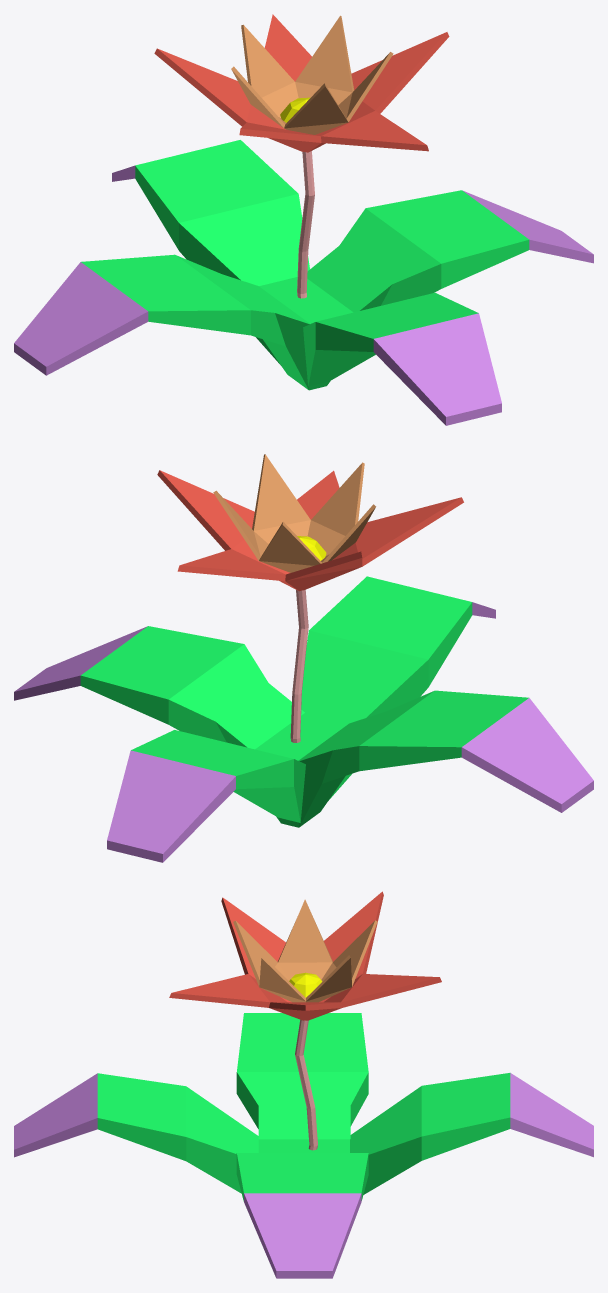
File: Torchflower.fbx
The picture shows the model from 3 angles, top to bottom: view 1: azimuth 30°, elevation 25°; view 2: azimuth 150°, elevation 25°; view 3: azimuth 270°, elevation 25°; orthographic projection. The views are drawn at different scales.
Parts seen in each view (by area): view 1: Daun, kelopak, bunga, serbuk.001; view 2: Daun, kelopak, bunga, serbuk.001; view 3: Daun, kelopak, bunga, serbuk.001, serbuk.
Boxes of the visible parts, box(x1,y1,x2,y2) form: Daun: box(14, 140, 593, 425); kelopak: box(154, 14, 449, 152); bunga: box(231, 15, 393, 134); serbuk.001: box(297, 151, 314, 298); Daun: box(14, 576, 593, 862); kelopak: box(157, 470, 463, 591); bunga: box(213, 454, 375, 572); serbuk.001: box(290, 590, 308, 742); Daun: box(14, 1013, 593, 1278); kelopak: box(169, 891, 441, 1020); bunga: box(233, 899, 377, 1002); serbuk.001: box(295, 1020, 317, 1150); serbuk: box(289, 972, 322, 997).
Bounding box in the file's own units: 117 × 67.44 × 123.
